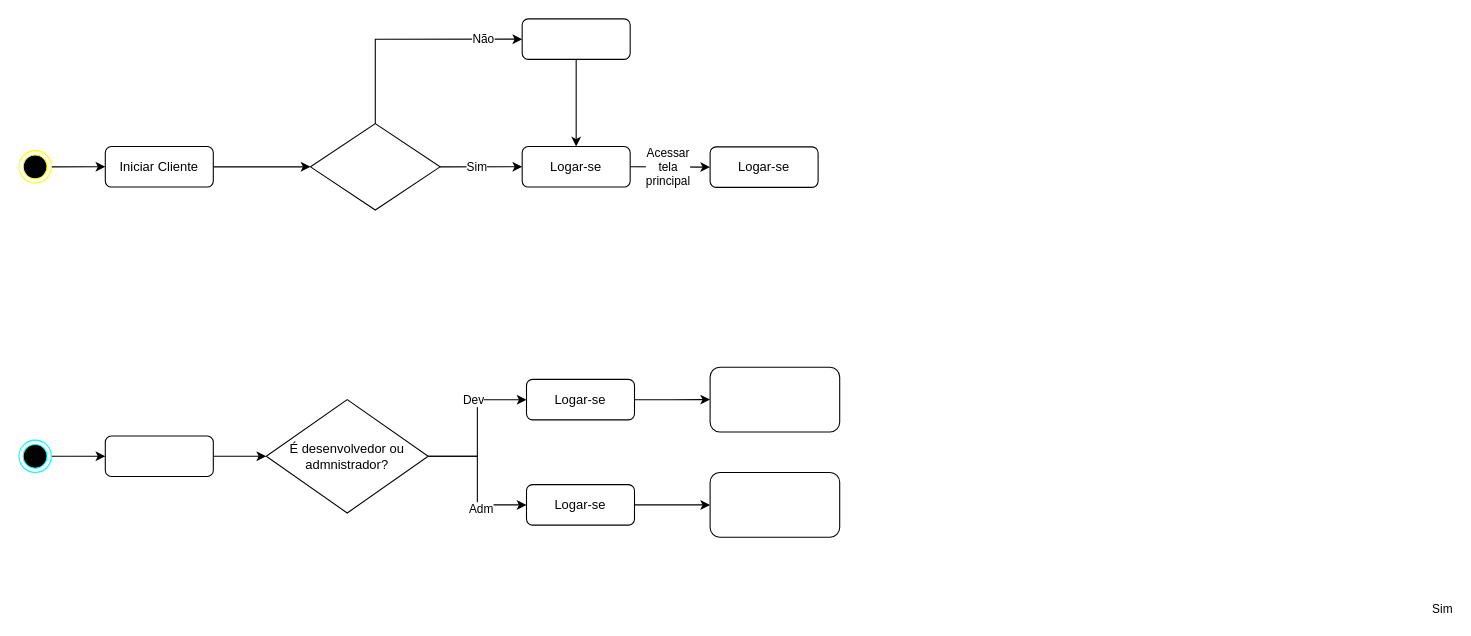
The diagram is 1471 pixels wide and 636 high, and some of its shapes have lost their labels. The centre of each missing label's shape, as x and y in pixels:
Cadastrar-se: pixel 575 38
Iniciar Dev/Adm: pixel 158 455
É cadastrado?: pixel 374 166
